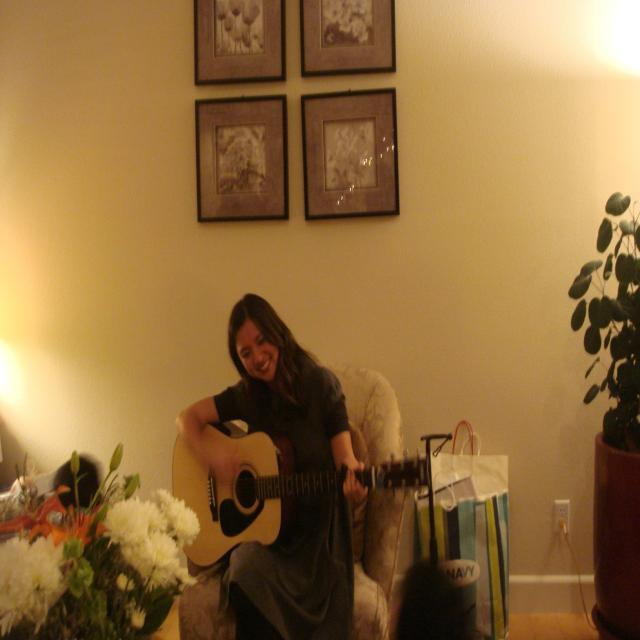guitar: (173, 413, 430, 569)
